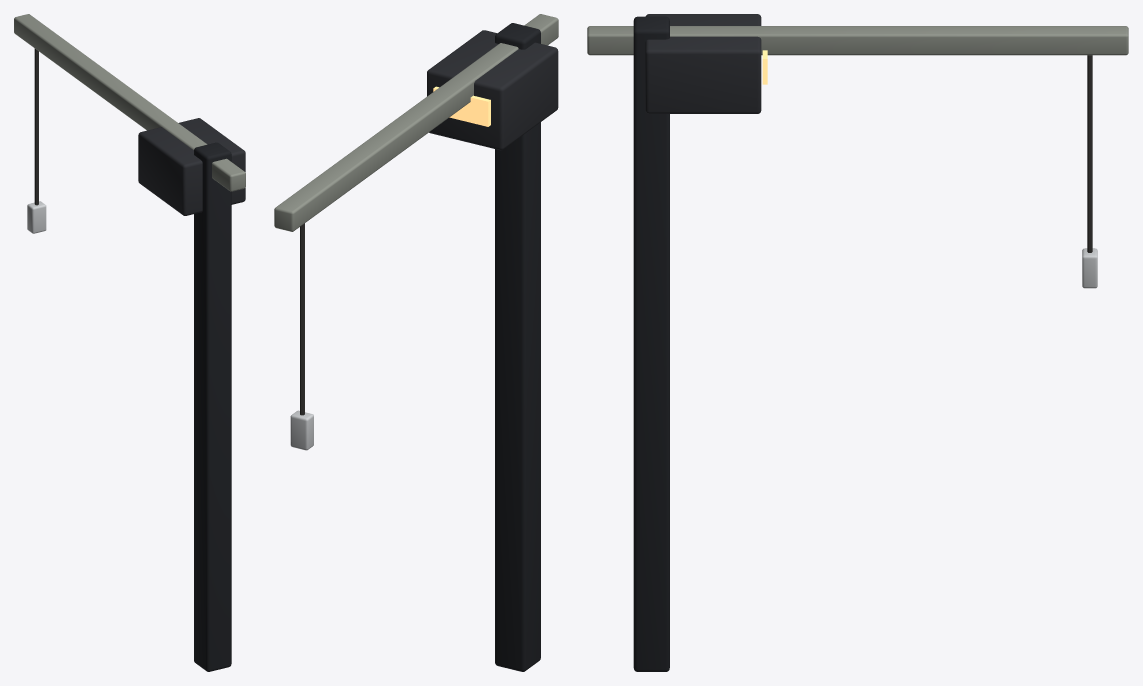
File: prop_crane.glb
The picture shows the model from 3 angles, left to right: view 1: azimuth 30°, elevation 25°; view 2: azimuth 150°, elevation 25°; view 3: azimuth 270°, elevation 25°; orthographic projection. The views are drawn at different scales.
Parts seen in each view (by area): view 1: CraneMast, Boom, Cab, CraneCable, Hook; view 2: CraneMast, Cab, Boom, CraneCable, Hook, CabGlass; view 3: CraneMast, Boom, Cab, CraneCable.
Boxes of the visible parts, x1,y1,x2,y2 form: CraneMast: (194,142,231,671); Boom: (14,14,245,191); Cab: (138,118,245,215); CraneCable: (34,48,38,205); Hook: (27,201,46,233); CraneMast: (495,23,540,671); Cab: (427,30,558,150); Boom: (274,14,558,231); CraneCable: (300,223,304,415); Hook: (290,410,313,450); CabGlass: (433,86,490,126); CraneMast: (633,16,669,671); Boom: (587,26,1128,55); Cab: (645,14,761,113); CraneCable: (1087,55,1092,252).
Bounding box in the file's own units: 0.7 × 5.5 × 4.2.
